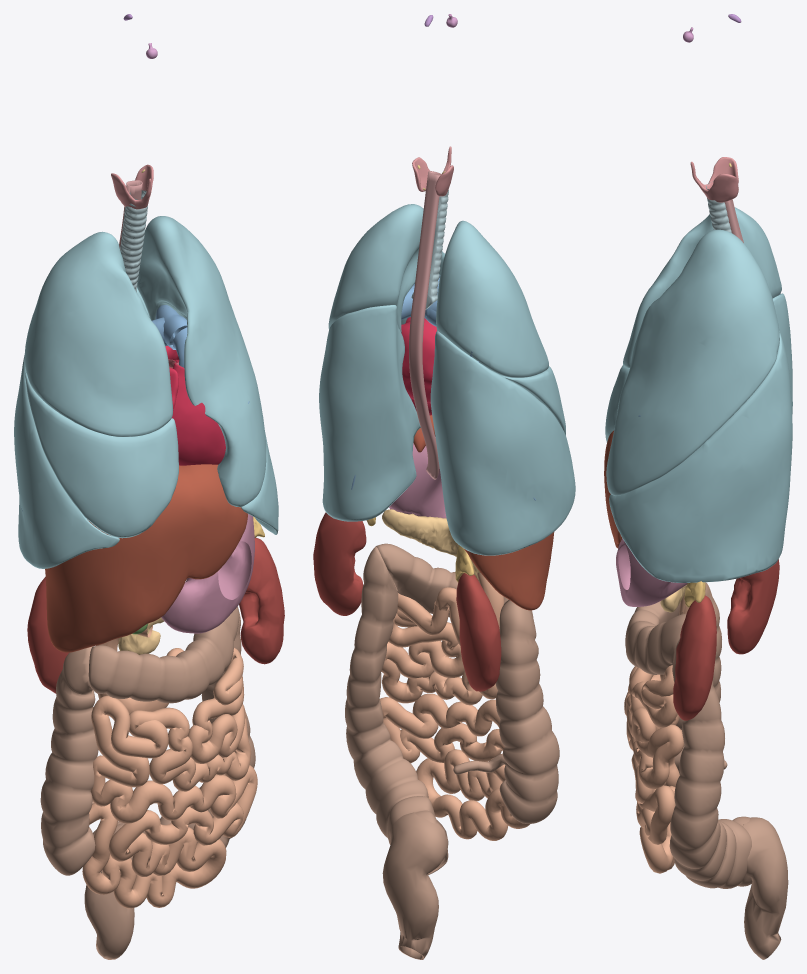
Rendered from ieobom-female-organs-core-v2.glb.
3 views of the same model, side by side, from view 1: azimuth 30°, elevation 25°; view 2: azimuth 150°, elevation 25°; view 3: azimuth 270°, elevation 25° (orthographic). The views are drawn at different scales.
Visible parts, largest first — view 1: small-intestine-jejunum__Jejunum.001, lungs-superior-lobe-of-right-lung__Superior_lobe_of_right_lu, liver__Liver.001, lungs-superior-lobe-of-left-lung__Superior_lobe_of_left_lung, lungs-middle-lobe-of-right-lung__Middle_lobe_of_right_lung.0, large-intestine-ascending-colon__Ascending_colon.001, lungs-inferior-lobe-of-right-lung__Inferior_lobe_of_right_lu, large-intestine-transverse-colon__Transverse_colon.001, stomach__Stomach.001, kidneys-kidney-left__Kidneyl.001, heart-right-ventricle__Right_ventricle.001, large-intestine-sigmoid-colon__Sigmoid_colon.001 (+8 smaller); view 2: lungs-inferior-lobe-of-right-lung__Inferior_lobe_of_right_lu, small-intestine-jejunum__Jejunum.001, lungs-inferior-lobe-of-left-lung__Inferior_lobe_of_left_lung, large-intestine-descending-colon__Descending_colon.001, lungs-superior-lobe-of-right-lung__Superior_lobe_of_right_lu, large-intestine-ascending-colon__Ascending_colon.001, lungs-superior-lobe-of-left-lung__Superior_lobe_of_left_lung, large-intestine-sigmoid-colon__Sigmoid_colon.001, oesophagus__Oesophagus.001, kidneys-kidney-left__Kidneyl.001, kidneys-kidney-right__Kidneyr.001, liver__Liver.001 (+9 smaller); view 3: lungs-superior-lobe-of-left-lung__Superior_lobe_of_left_lung, lungs-inferior-lobe-of-left-lung__Inferior_lobe_of_left_lung, large-intestine-descending-colon__Descending_colon.001, small-intestine-jejunum__Jejunum.001, large-intestine-sigmoid-colon__Sigmoid_colon.001, kidneys-kidney-left__Kidneyl.001, lungs-superior-lobe-of-right-lung__Superior_lobe_of_right_lu, large-intestine-transverse-colon__Transverse_colon.001, kidneys-kidney-right__Kidneyr.001, stomach__Stomach.001, thyroid-gland__Thyroid_gland.001, lungs-inferior-lobe-of-right-lung__Inferior_lobe_of_right_lu (+5 smaller).
Boxes of the visible parts, <box> form: small-intestine-jejunum__Jejunum.001: <box>82,648,257,908</box>; lungs-superior-lobe-of-right-lung__Superior_lobe_of_right_lu: <box>24,231,173,436</box>; liver__Liver.001: <box>45,464,247,652</box>; lungs-superior-lobe-of-left-lung__Superior_lobe_of_left_lung: <box>137,216,266,507</box>; lungs-middle-lobe-of-right-lung__Middle_lobe_of_right_lung.0: <box>25,372,178,538</box>; large-intestine-ascending-colon__Ascending_colon.001: <box>40,646,98,875</box>; lungs-inferior-lobe-of-right-lung__Inferior_lobe_of_right_lu: <box>14,355,119,568</box>; large-intestine-transverse-colon__Transverse_colon.001: <box>88,606,239,703</box>; stomach__Stomach.001: <box>161,514,254,633</box>; kidneys-kidney-left__Kidneyl.001: <box>239,537,284,664</box>; heart-right-ventricle__Right_ventricle.001: <box>172,360,225,465</box>; large-intestine-sigmoid-colon__Sigmoid_colon.001: <box>84,821,134,959</box>; lungs-inferior-lobe-of-right-lung__Inferior_lobe_of_right_lu: <box>430,331,575,555</box>; small-intestine-jejunum__Jejunum.001: <box>380,593,529,840</box>; lungs-inferior-lobe-of-left-lung__Inferior_lobe_of_left_lung: <box>319,305,420,521</box>; large-intestine-descending-colon__Descending_colon.001: <box>345,546,448,874</box>; lungs-superior-lobe-of-right-lung__Superior_lobe_of_right_lu: <box>436,220,548,377</box>; large-intestine-ascending-colon__Ascending_colon.001: <box>495,600,559,823</box>; lungs-superior-lobe-of-left-lung__Superior_lobe_of_left_lung: <box>328,204,445,332</box>; large-intestine-sigmoid-colon__Sigmoid_colon.001: <box>382,812,448,959</box>; oesophagus__Oesophagus.001: <box>409,171,441,479</box>; kidneys-kidney-left__Kidneyl.001: <box>313,512,366,615</box>; kidneys-kidney-right__Kidneyr.001: <box>456,573,501,691</box>; liver__Liver.001: <box>413,415,554,610</box>; lungs-superior-lobe-of-left-lung__Superior_lobe_of_left_lung: <box>606,229,779,495</box>; lungs-inferior-lobe-of-left-lung__Inferior_lobe_of_left_lung: <box>609,331,792,582</box>; large-intestine-descending-colon__Descending_colon.001: <box>669,638,752,888</box>; small-intestine-jejunum__Jejunum.001: <box>624,665,684,873</box>; large-intestine-sigmoid-colon__Sigmoid_colon.001: <box>742,817,788,959</box>; kidneys-kidney-left__Kidneyl.001: <box>673,595,716,720</box>; lungs-superior-lobe-of-right-lung__Superior_lobe_of_right_lu: <box>623,207,781,368</box>; large-intestine-transverse-colon__Transverse_colon.001: <box>625,601,686,674</box>; kidneys-kidney-right__Kidneyr.001: <box>727,559,779,654</box>; stomach__Stomach.001: <box>616,538,687,606</box>; thyroid-gland__Thyroid_gland.001: <box>690,157,738,202</box>; lungs-inferior-lobe-of-right-lung__Inferior_lobe_of_right_lu: <box>772,293,792,414</box>.
Size of the model in its own units: 0.2155 by 0.7856 by 0.1423.
